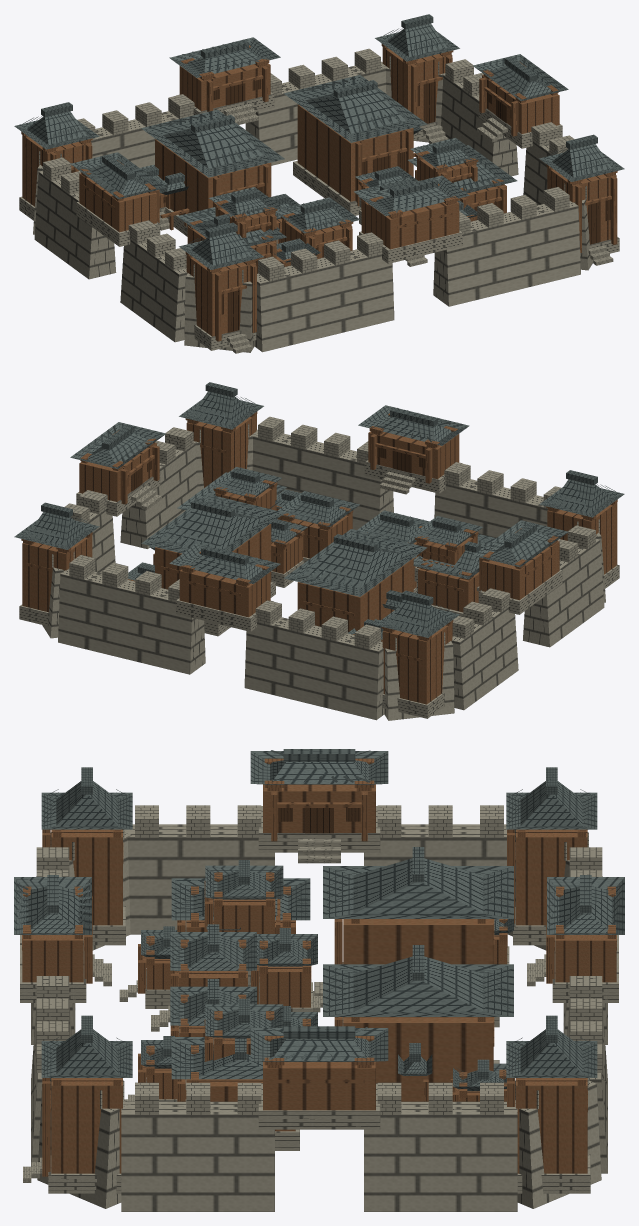
File: city1-lod0.glb
The picture shows the model from 3 angles, top to bottom: view 1: azimuth 30°, elevation 25°; view 2: azimuth 150°, elevation 25°; view 3: azimuth 270°, elevation 25°; orthographic projection. The views are drawn at different scales.
Size of the model in its own units: 2.15 by 0.561 by 1.79.
Materials: 1 (1 with a texture image).
